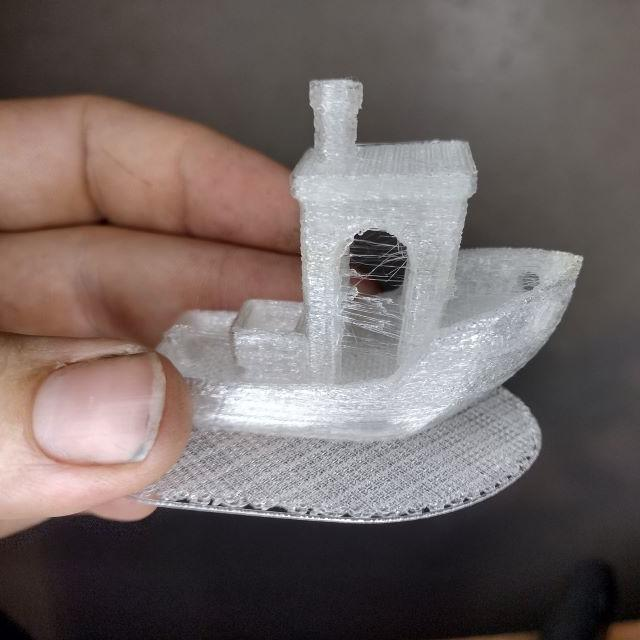Stringing: (352, 236, 406, 284), (346, 296, 398, 336)
